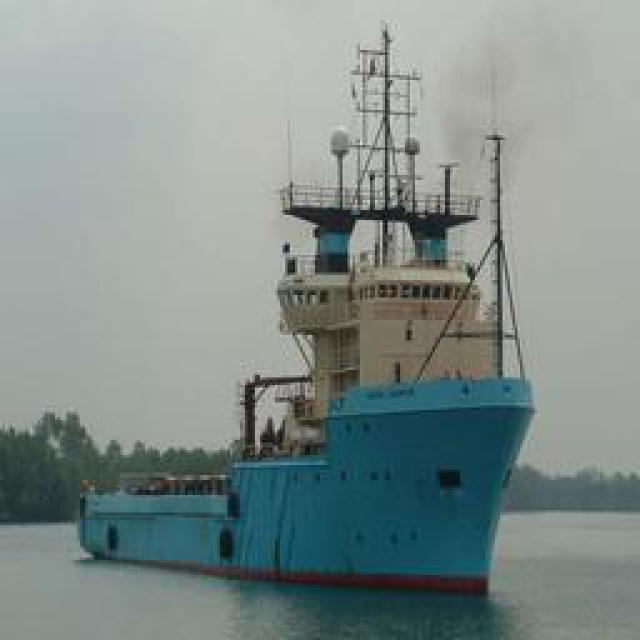Ship: (65, 27, 544, 593)
